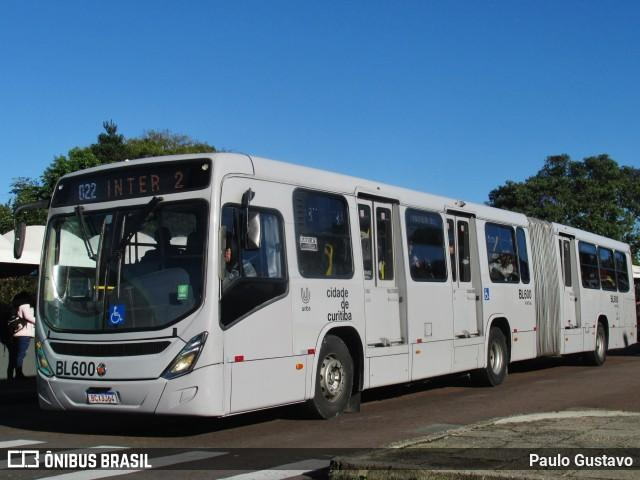INTER2: (103, 166, 188, 202)
